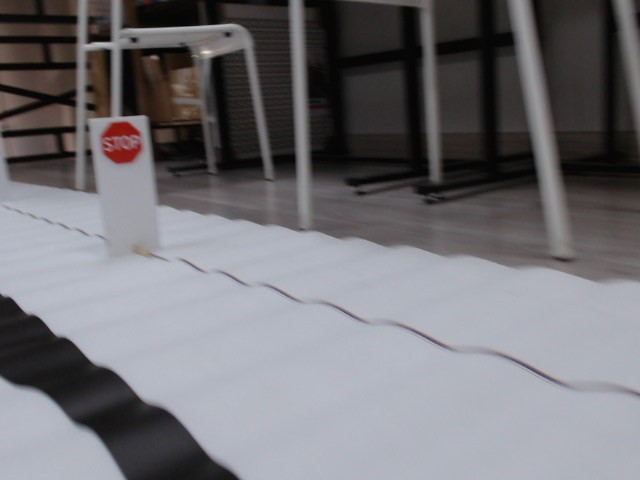Stop: (99, 122, 143, 162)
